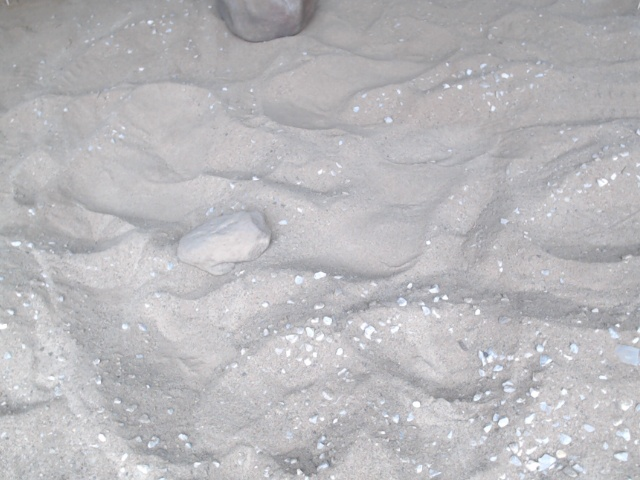rock: (171, 203, 276, 282), (210, 1, 318, 47)
